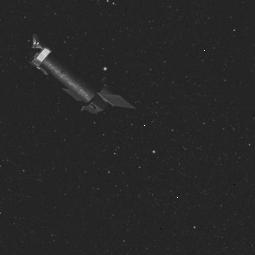xmm_newton: (29, 39, 145, 149)
